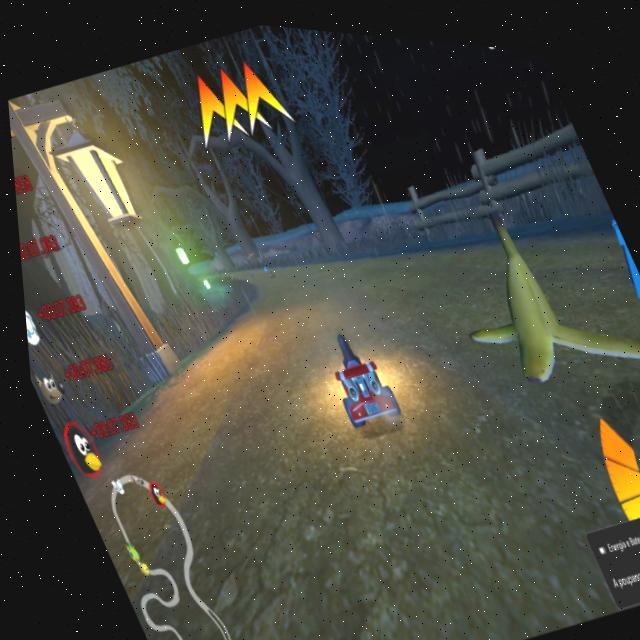obstacle: (420, 188, 603, 396)
player_kart: (306, 321, 403, 440)
track: (243, 225, 428, 360)
